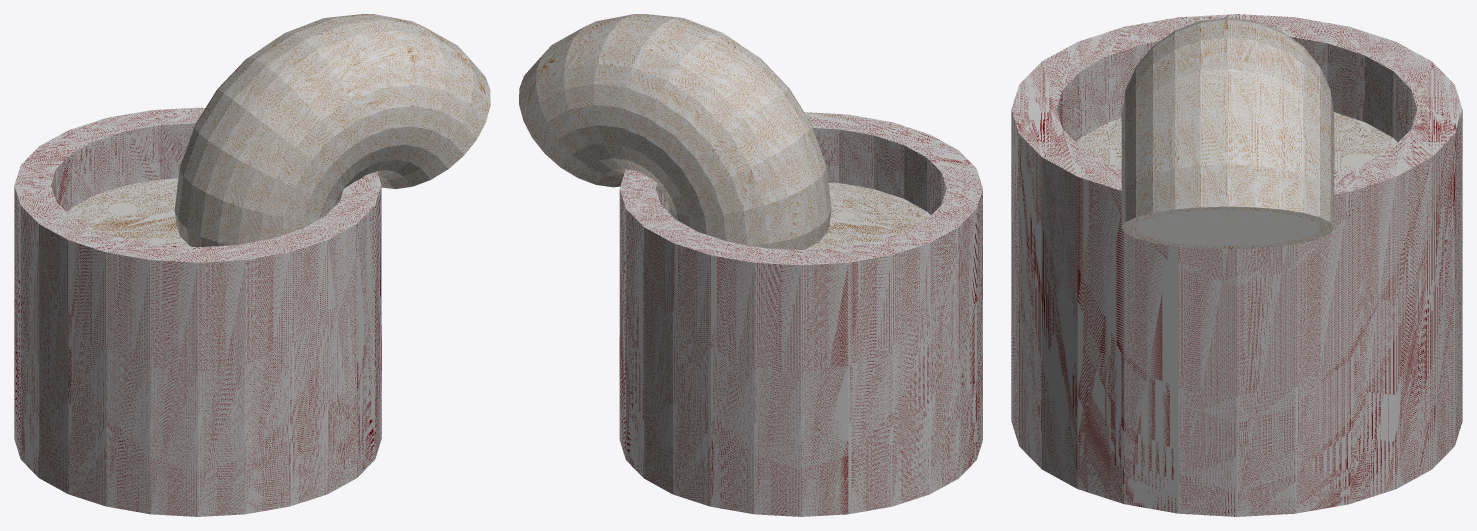
3 renders of one model, left to right at view 1: azimuth 30°, elevation 25°; view 2: azimuth 150°, elevation 25°; view 3: azimuth 270°, elevation 25°, orthographic. The views are drawn at different scales.
Visible parts, largest first — view 1: mesh2.001_mesh2-geometry, mesh1.001_mesh1-geometry; view 2: mesh2.001_mesh2-geometry, mesh1.001_mesh1-geometry; view 3: mesh2.001_mesh2-geometry, mesh1.001_mesh1-geometry.
Part boxes in pixels (x1,y1,x2,y2): mesh2.001_mesh2-geometry: (14, 107, 381, 516); mesh1.001_mesh1-geometry: (174, 14, 490, 247); mesh2.001_mesh2-geometry: (619, 112, 982, 516); mesh1.001_mesh1-geometry: (519, 14, 831, 249); mesh2.001_mesh2-geometry: (1011, 14, 1462, 516); mesh1.001_mesh1-geometry: (1121, 17, 1334, 248).
Bounding box in the file's own units: 0.6666 × 0.5626 × 0.489.
